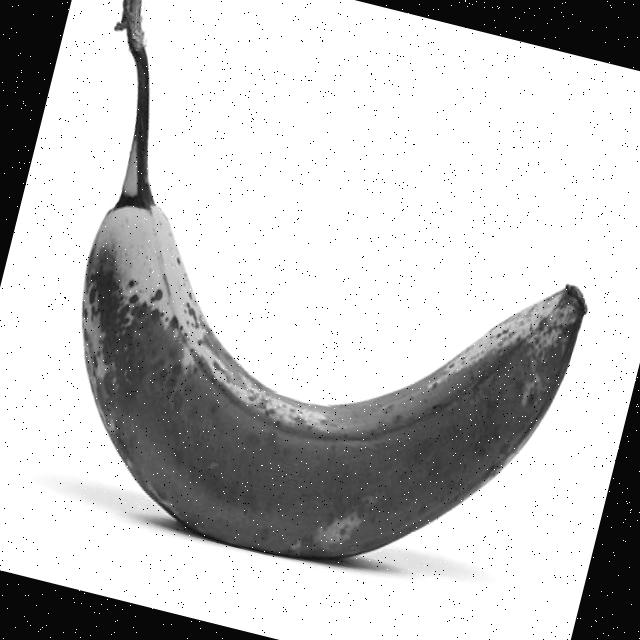overripe: (18, 49, 623, 618)
